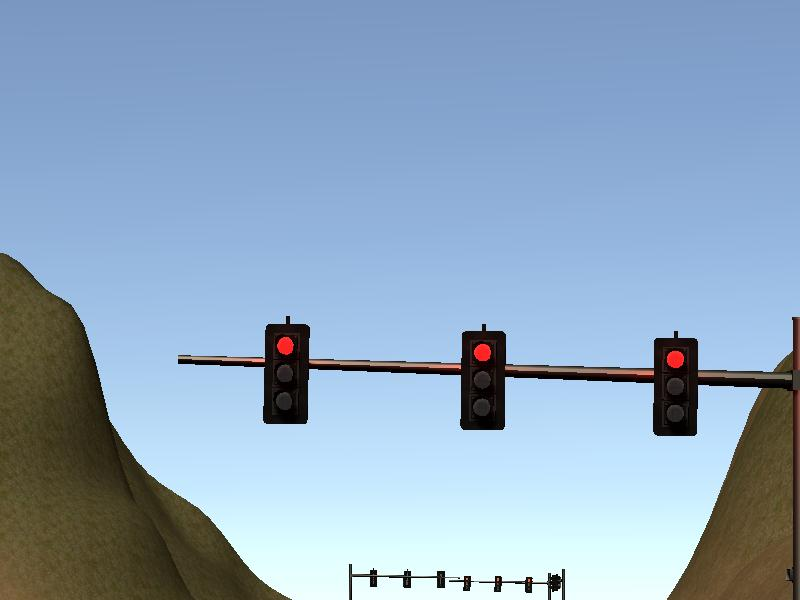Red: (264, 323, 307, 423), (461, 331, 503, 430), (654, 337, 696, 436)
